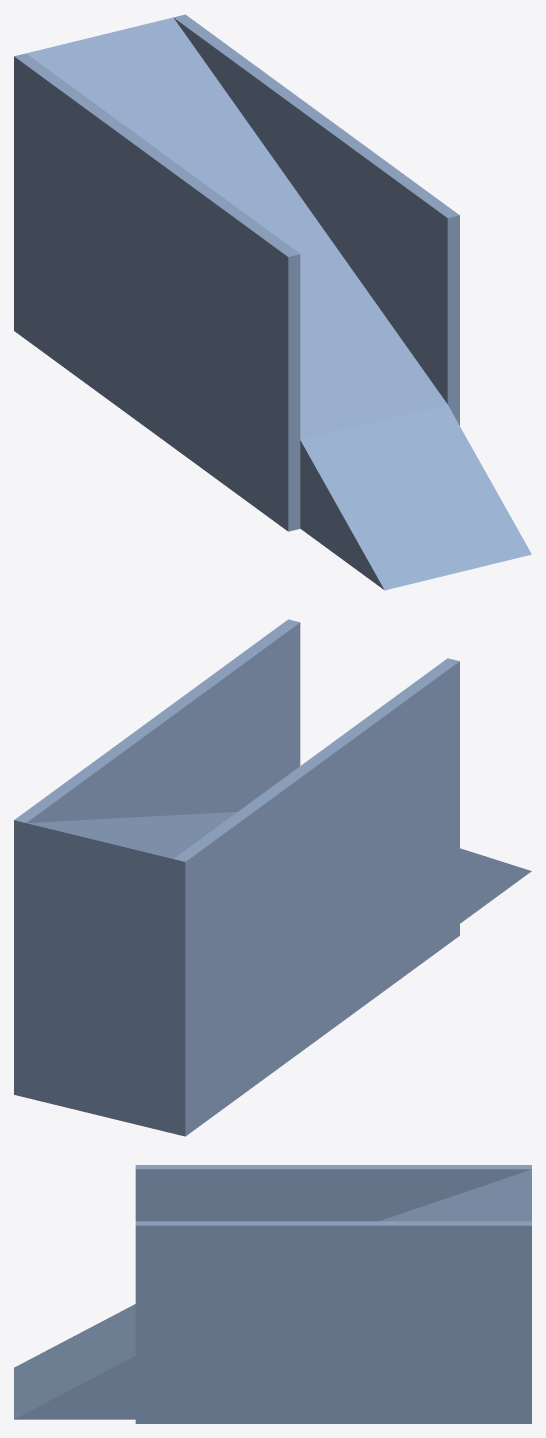
Rendered from Col_Train02.FBX.
3 views of the same model, one above another, from view 1: azimuth 30°, elevation 25°; view 2: azimuth 150°, elevation 25°; view 3: azimuth 270°, elevation 25° (orthographic). The views are drawn at different scales.
Visible parts, largest first — view 1: Col_Train02; view 2: Col_Train02; view 3: Col_Train02.
Boxes of the visible parts, x1=… form: Col_Train02: x1=14, y1=14, x2=531, y2=590; Col_Train02: x1=14, y1=619, x2=531, y2=1136; Col_Train02: x1=14, y1=1165, x2=531, y2=1423.
Size of the model in its own units: 200 by 307 by 726.
